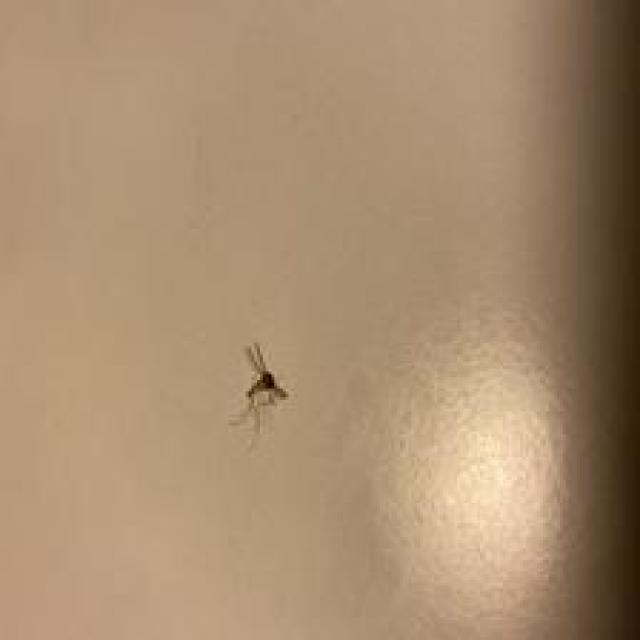Culex: (227, 340, 290, 449)
